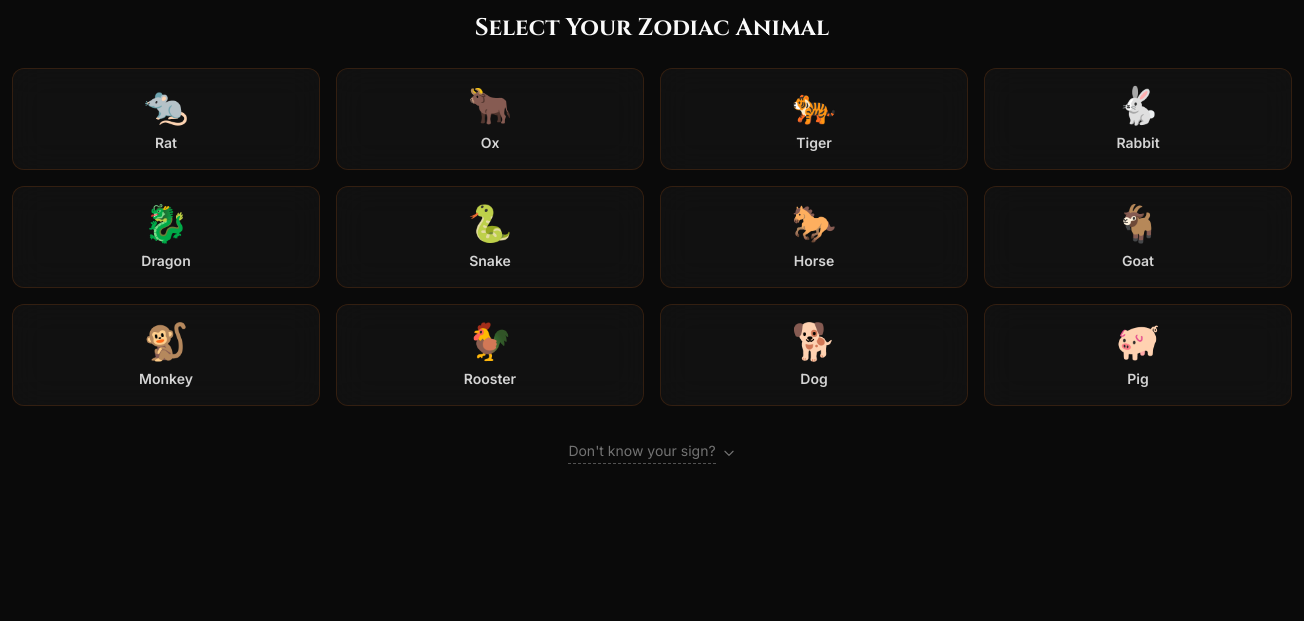
Test case: ZodiacSelector › Birthdate Toggle › clicking "Don't know your sign?" reveals date inputs
What coordinates should you click on to do the following:
click the button "Don't know your sign?"
I would click on:
 (652, 452)
Its box is [568,441,736,464].
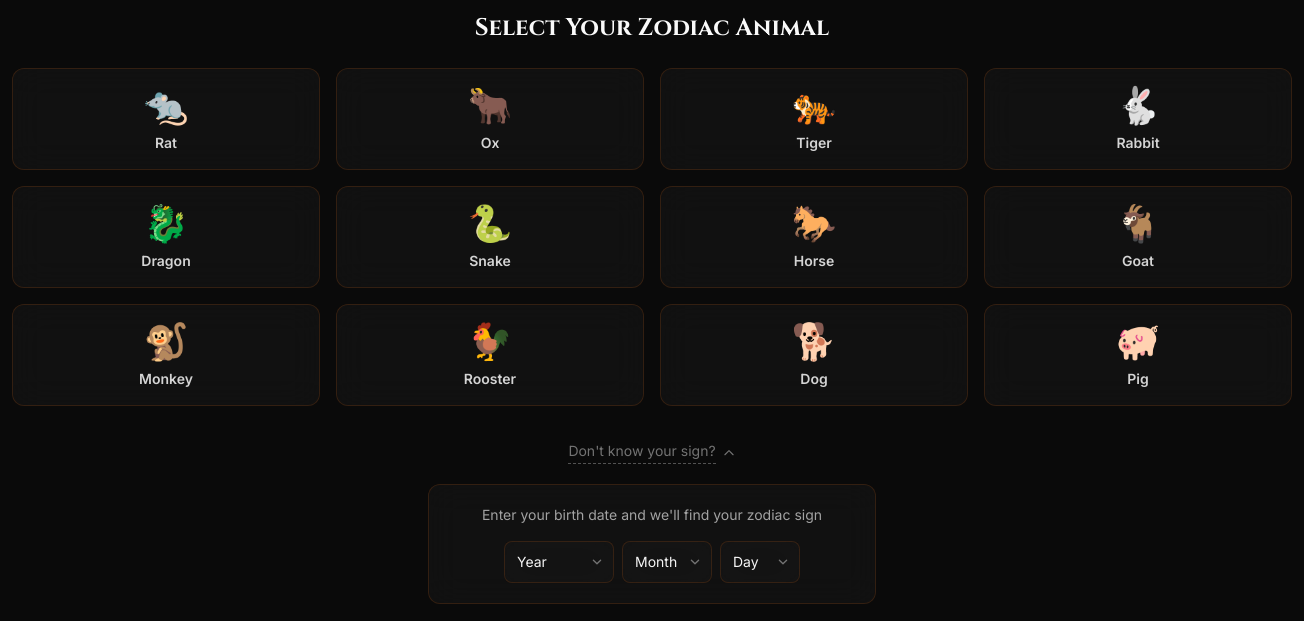
Expected: the number of dropdowns is 3, [504,541,614,583]; [622,541,712,583]; [720,541,800,583]
